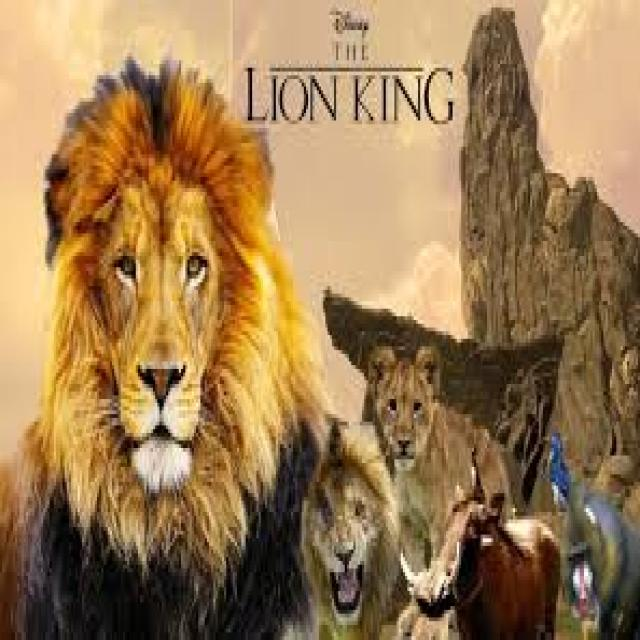Lion: (42, 80, 294, 544)
